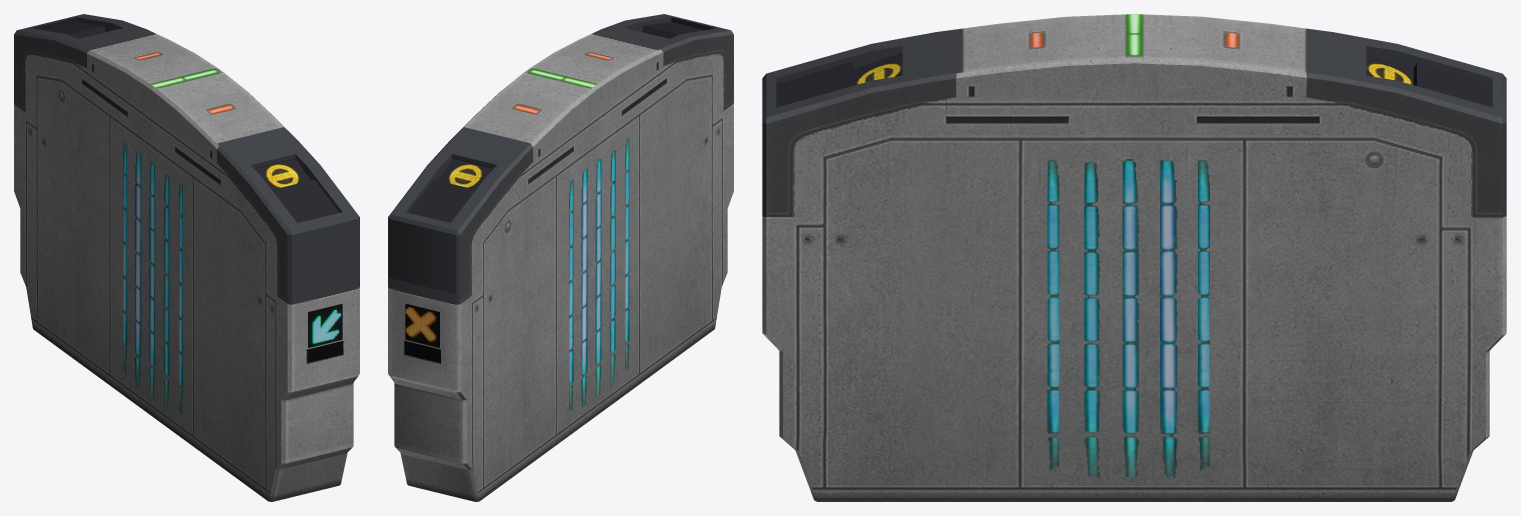
Rendered from Tourniquet01b.FBX.
3 views of the same model, side by side, from view 1: azimuth 30°, elevation 25°; view 2: azimuth 150°, elevation 25°; view 3: azimuth 270°, elevation 25° (orthographic). The views are drawn at different scales.
Parts seen in each view (by area): view 1: Tourniquet01b; view 2: Tourniquet01b; view 3: Tourniquet01b.
Boxes of the visible parts, x1=… form: Tourniquet01b: x1=14, y1=14, x2=359, y2=501; Tourniquet01b: x1=388, y1=14, x2=733, y2=501; Tourniquet01b: x1=762, y1=14, x2=1506, y2=501.
Size of the model in its own units: 293 by 1272 by 1940.
